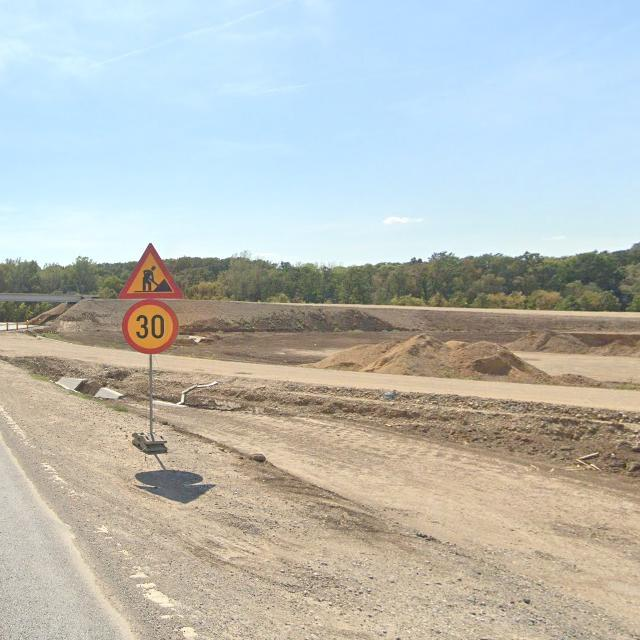forb_speed_over_30: (123, 300, 179, 354)
